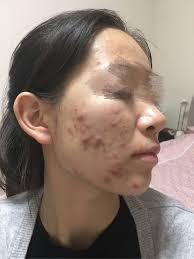fore: (131, 178, 146, 192), (63, 121, 74, 134), (116, 138, 127, 149), (110, 119, 122, 127), (109, 149, 120, 157), (120, 126, 129, 134), (110, 108, 121, 114)
